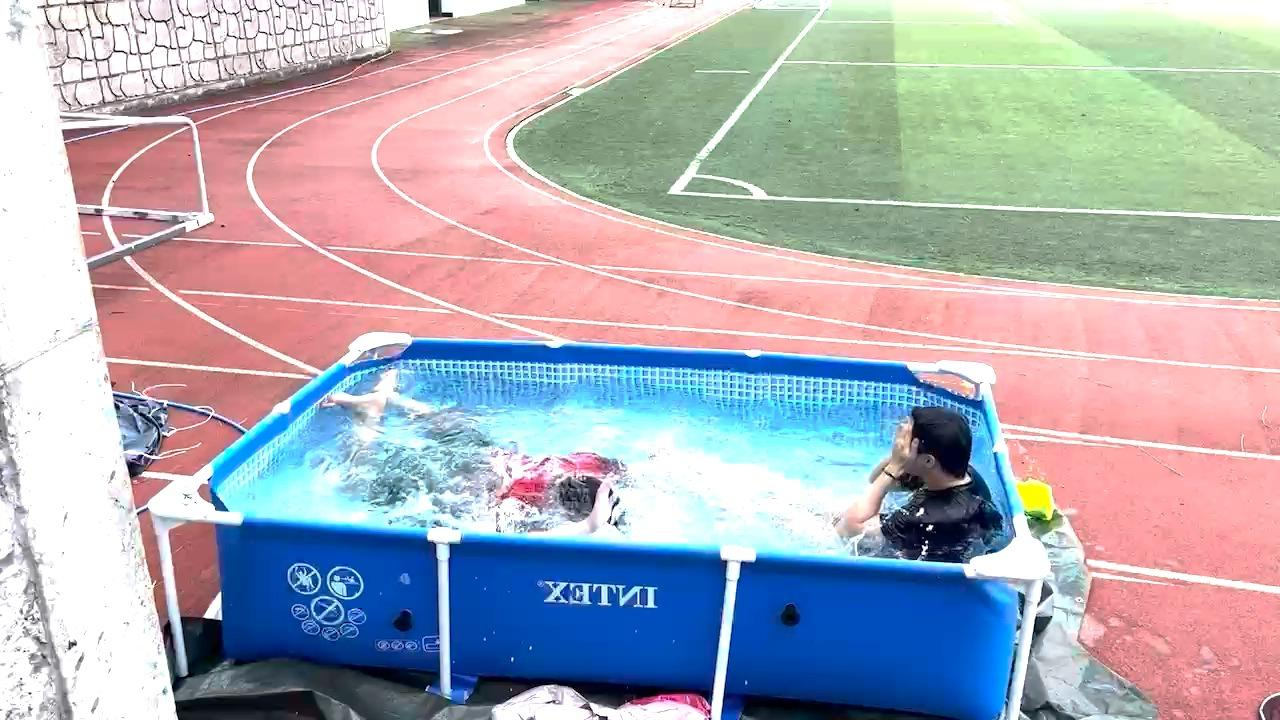Drowning: (299, 383, 660, 536)
